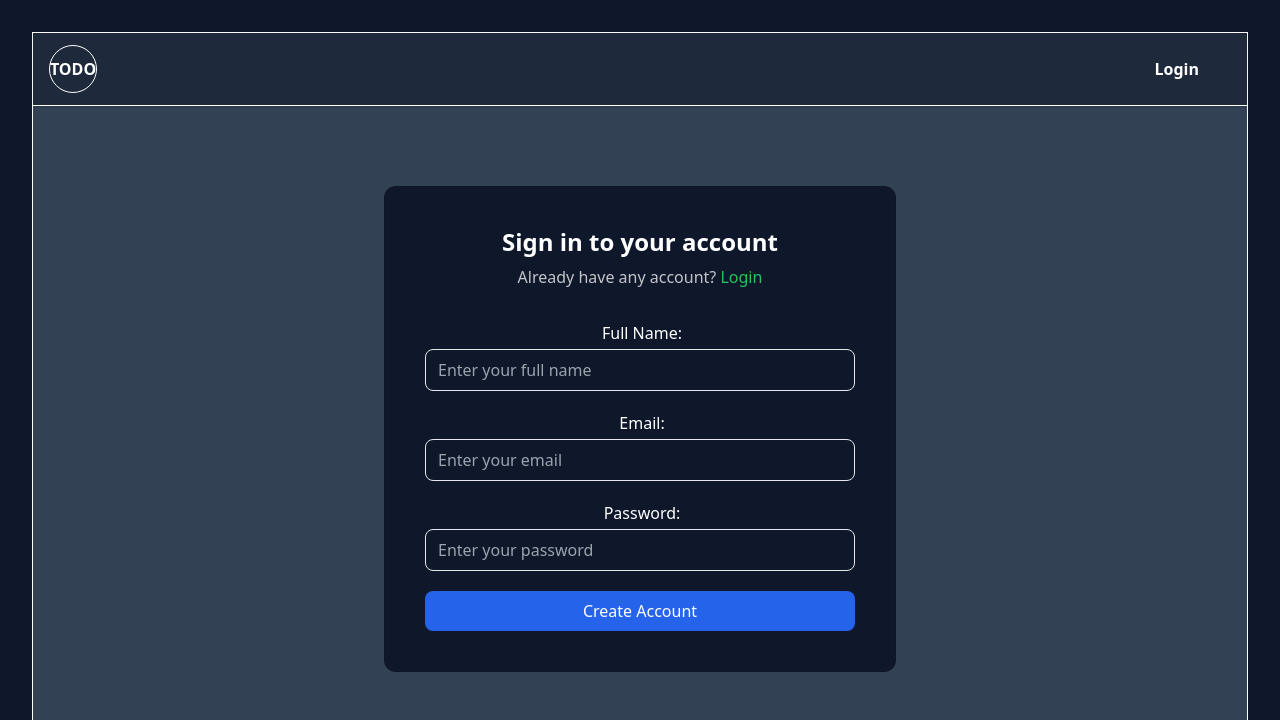
Test: Auth spec › if user already exist gives error on register
The width and height of the screenshot is (1280, 720).
Type "Mainak Mitra" into the field named "name". click: (640,370)
box: [425,349,855,391]
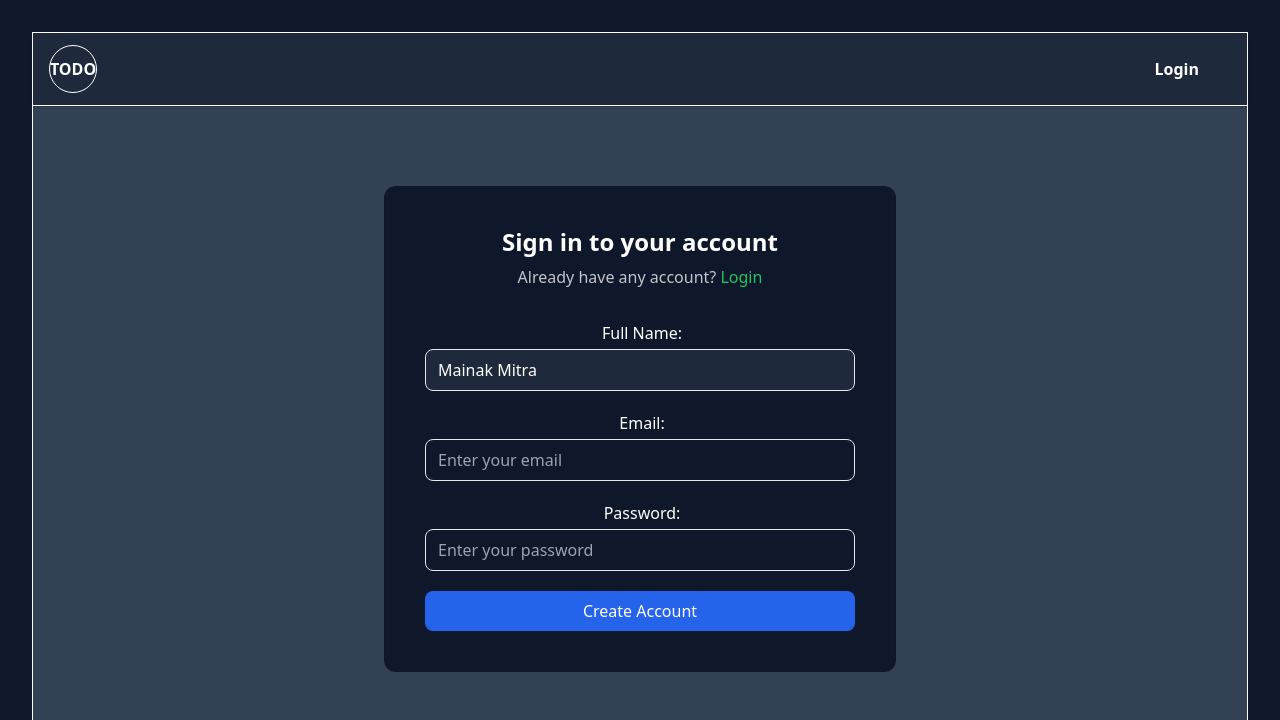
Type "mainak@gmail.com" into the field named "email". click: (640,460)
box: [425,439,855,481]
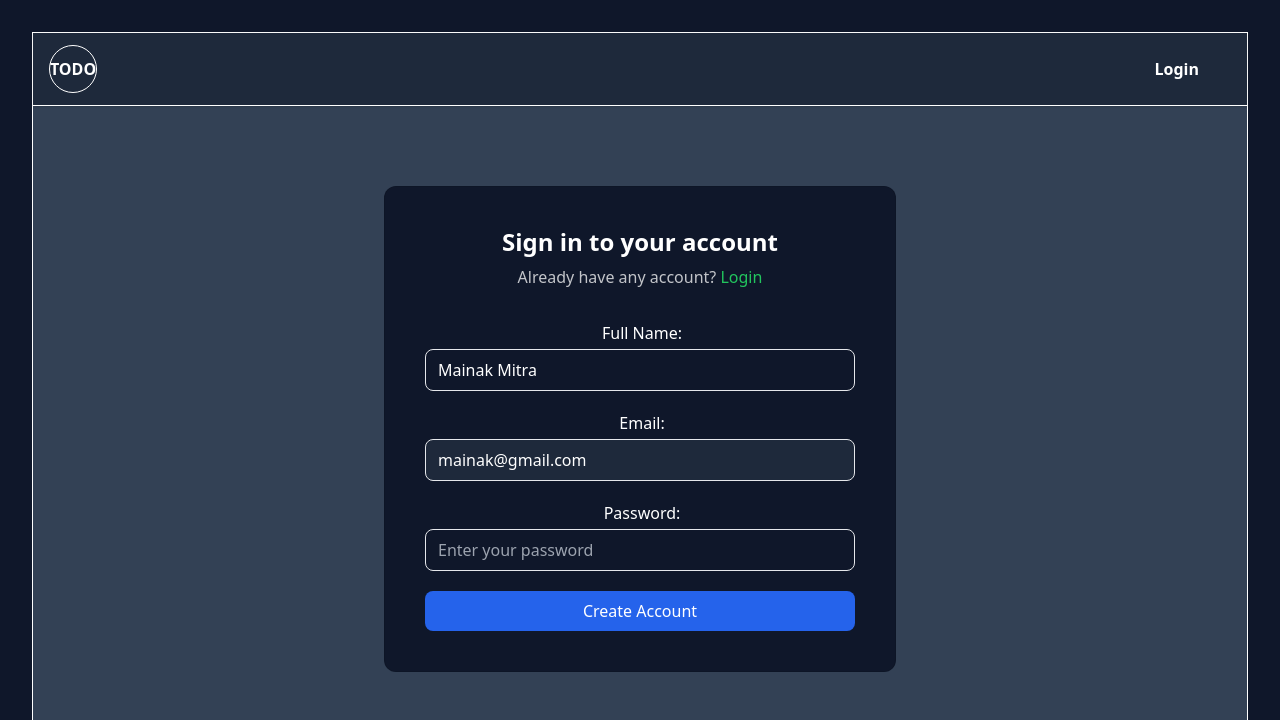
Type "password123" into the password field named "password". click: (640,550)
box: [425,529,855,571]
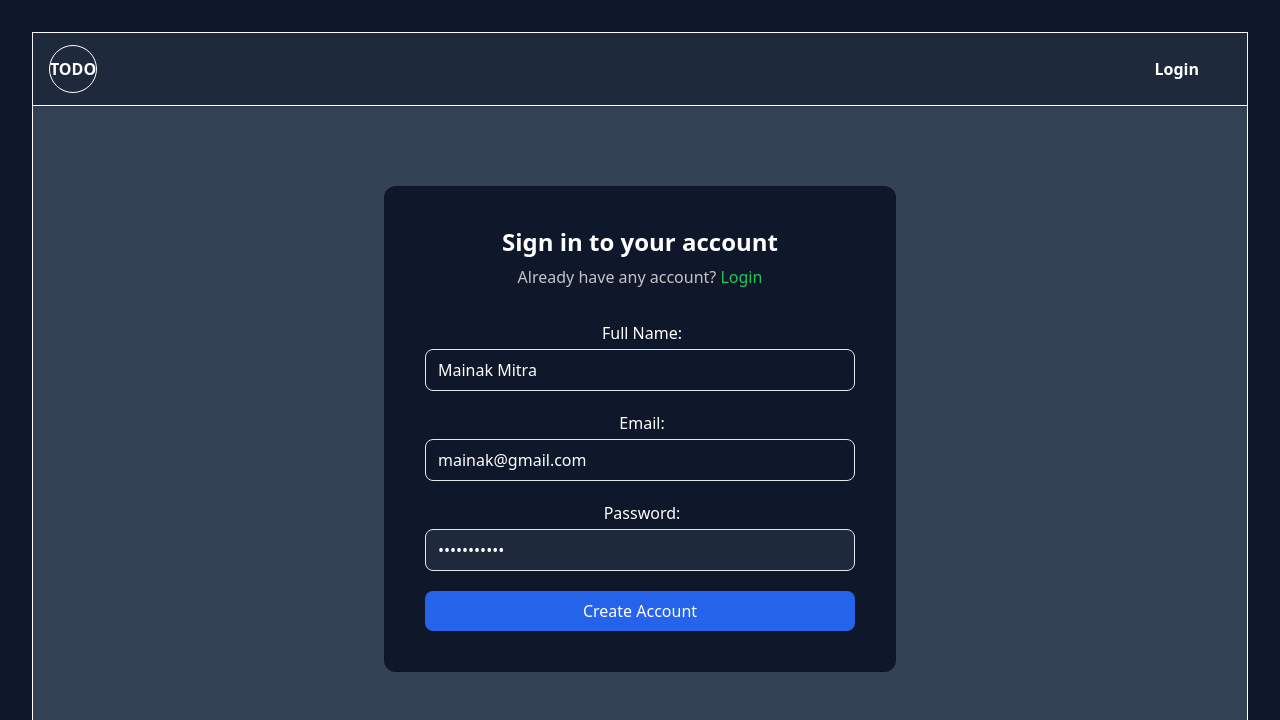
Click the button "Create Account". click: (640,611)
box: [425,591,855,631]
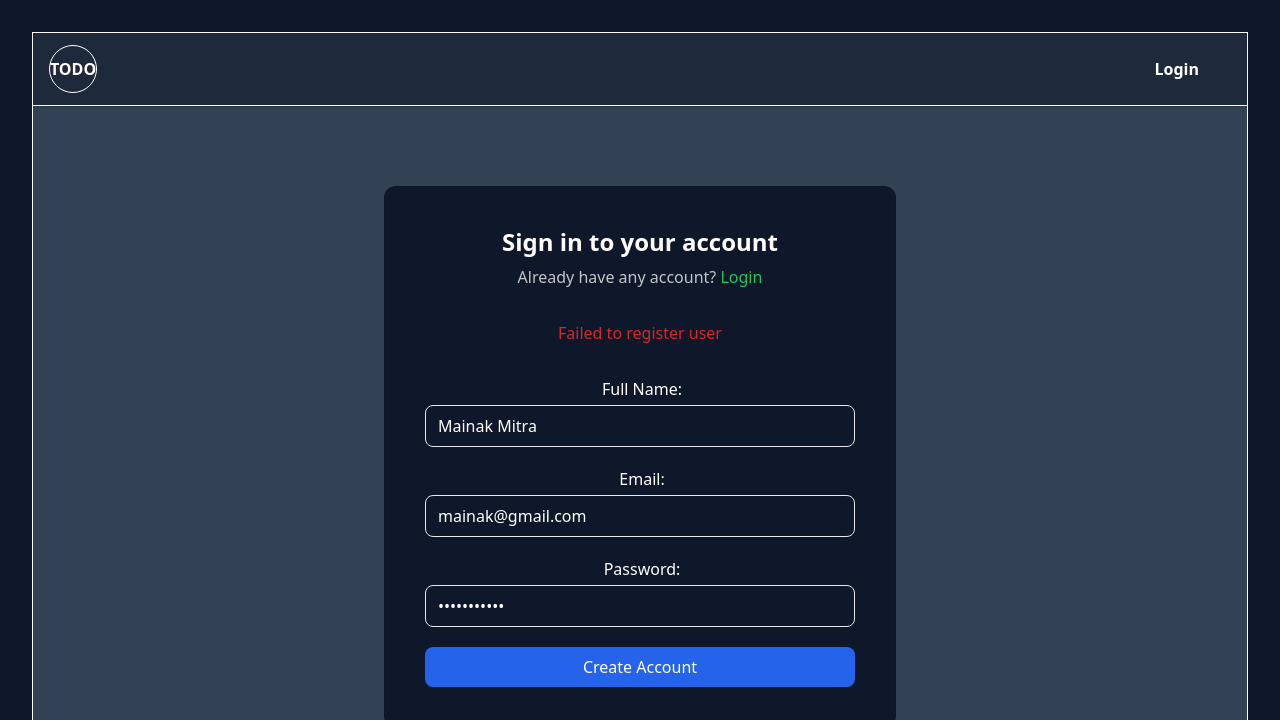
expect the text "Failed to register user" is shown: met, box [558,322,722,344]
